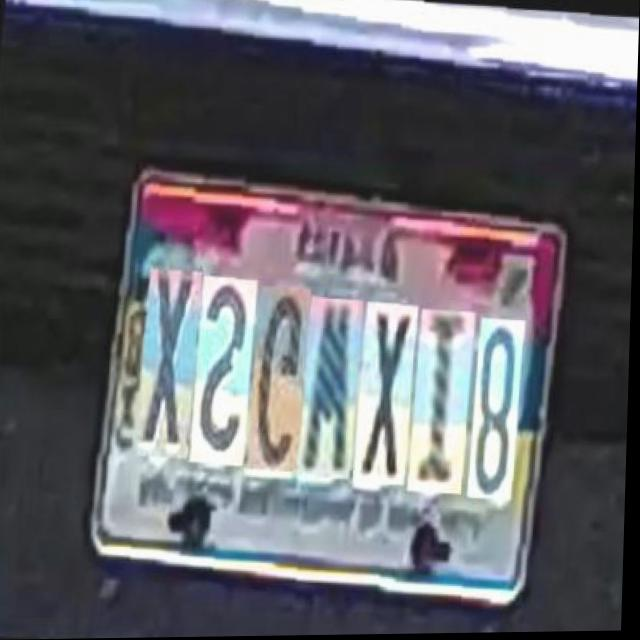8: (468, 312, 523, 495)
g: (246, 287, 308, 475)
i: (408, 305, 473, 491)
s: (190, 279, 254, 470)
w: (298, 296, 360, 479)
x: (135, 272, 198, 463), (354, 301, 415, 483)
